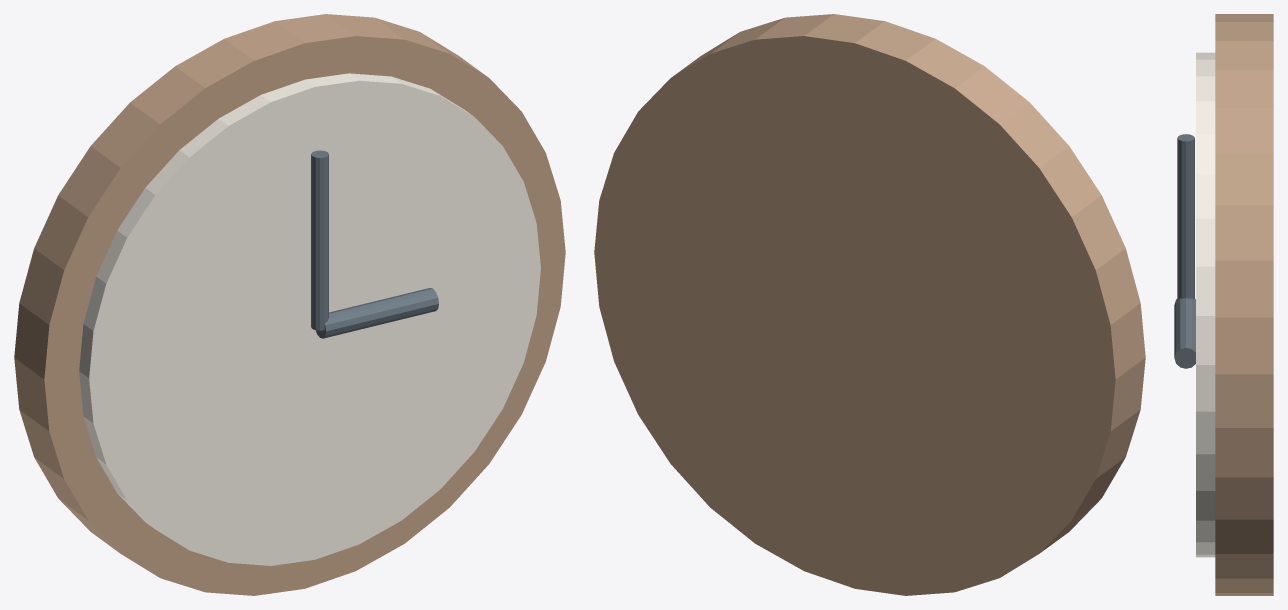
Rendered from wall_clock.glb.
3 renders of one model, left to right at view 1: azimuth 30°, elevation 25°; view 2: azimuth 150°, elevation 25°; view 3: azimuth 270°, elevation 25°, orthographic. The views are drawn at different scales.
Parts seen in each view (by area): view 1: wall_clock_001, wall_clock_000, wall_clock_002, wall_clock_003; view 2: wall_clock_000; view 3: wall_clock_000, wall_clock_001, wall_clock_002, wall_clock_003.
Part boxes in pixels (bbox=[...]): wall_clock_001: bbox=[79, 73, 540, 565]; wall_clock_000: bbox=[14, 14, 565, 595]; wall_clock_002: bbox=[311, 150, 328, 330]; wall_clock_003: bbox=[315, 288, 438, 338]; wall_clock_000: bbox=[594, 14, 1145, 595]; wall_clock_000: bbox=[1215, 14, 1273, 595]; wall_clock_001: bbox=[1196, 52, 1215, 557]; wall_clock_002: bbox=[1177, 134, 1194, 299]; wall_clock_003: bbox=[1174, 298, 1195, 368].
Size of the model in its own units: 0.6 by 0.6 by 0.102.
